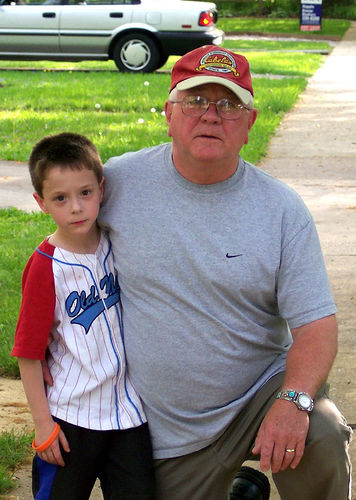without_mask: (165, 85, 257, 162), (30, 160, 106, 234)
